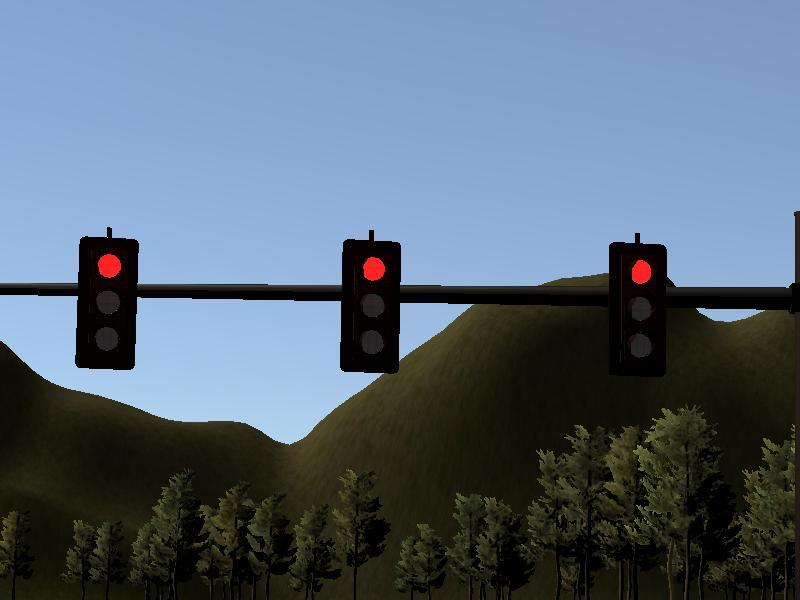Red: (606, 241, 666, 376), (340, 240, 399, 372), (77, 236, 135, 369)
